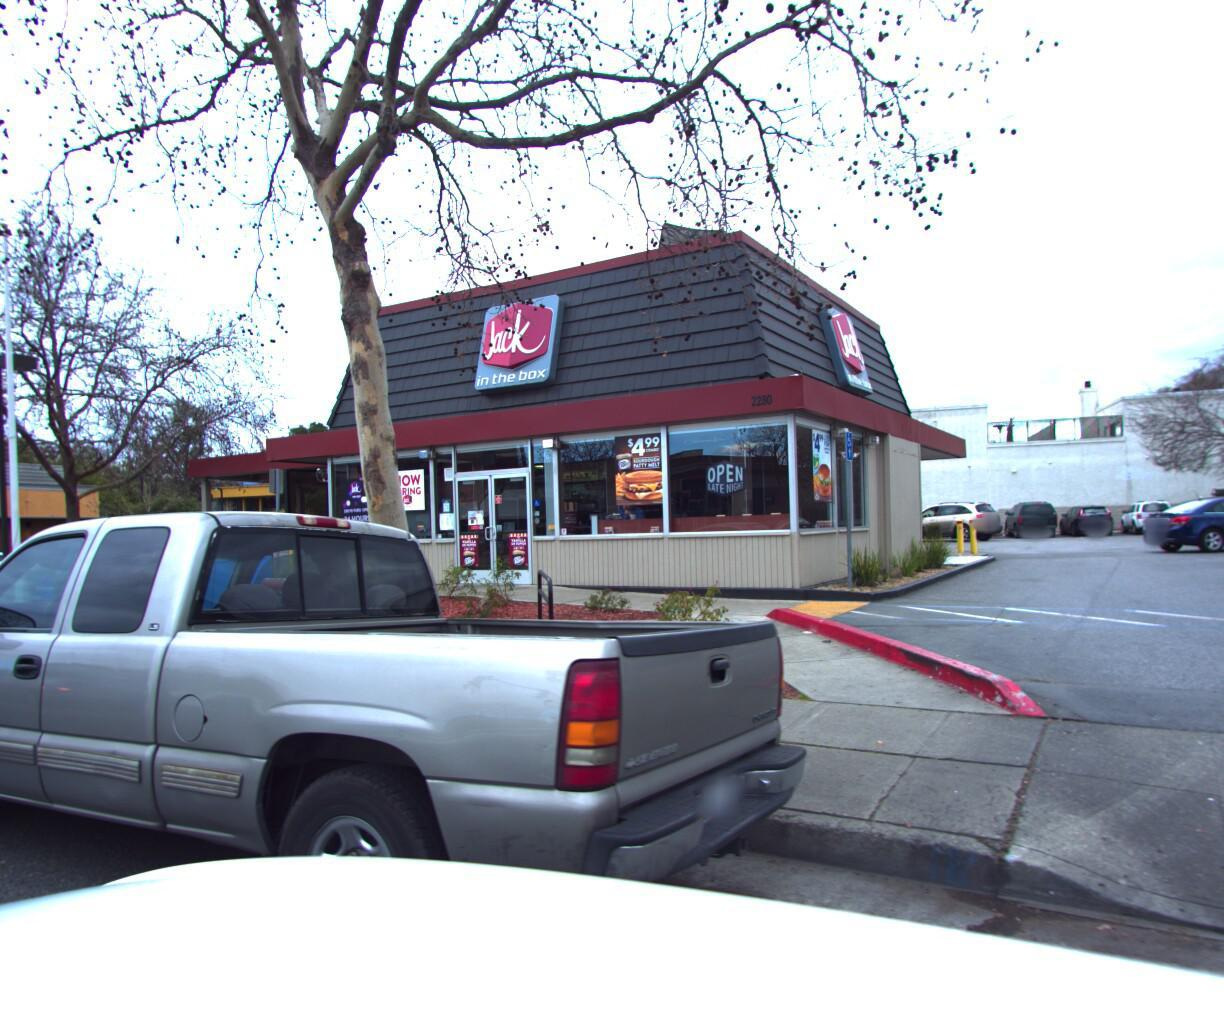car: (0, 487, 832, 1024), (94, 532, 245, 595), (0, 541, 50, 601)
